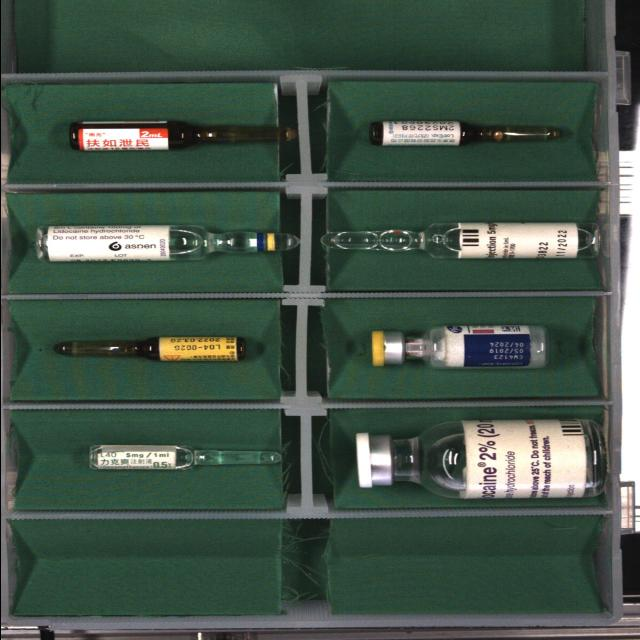Vials: (355, 420, 604, 499), (371, 326, 546, 369)
